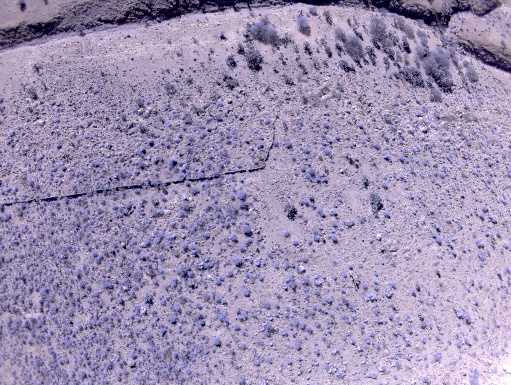agave: (165, 157, 183, 172), (309, 227, 322, 244), (210, 335, 225, 349), (327, 232, 342, 245), (319, 147, 335, 159), (241, 286, 254, 300), (167, 313, 181, 326), (235, 188, 248, 201), (115, 295, 128, 308), (240, 222, 252, 236), (149, 155, 164, 166), (232, 255, 244, 268), (383, 289, 396, 301), (289, 237, 303, 248), (280, 228, 295, 238), (169, 276, 179, 291), (283, 138, 295, 150), (168, 305, 184, 314), (141, 237, 153, 249), (432, 235, 445, 246), (323, 294, 336, 305), (309, 271, 322, 282), (178, 166, 189, 179), (316, 206, 327, 219), (78, 278, 89, 291), (344, 261, 358, 271), (232, 306, 246, 316), (200, 230, 214, 240), (296, 198, 313, 206), (228, 232, 239, 244), (381, 209, 393, 220), (304, 324, 315, 336), (127, 289, 138, 301), (194, 217, 206, 228), (307, 166, 317, 179), (300, 276, 311, 287), (145, 136, 156, 147), (214, 276, 225, 287), (253, 256, 263, 268), (196, 170, 208, 180), (298, 319, 308, 330), (254, 141, 265, 151), (228, 193, 239, 203), (380, 181, 391, 191), (371, 141, 382, 151), (321, 119, 331, 130), (231, 322, 242, 332), (272, 290, 284, 299), (193, 301, 205, 310), (312, 279, 325, 287), (304, 237, 314, 247), (339, 285, 349, 295), (179, 242, 189, 252), (95, 254, 105, 264), (171, 350, 181, 360), (183, 177, 192, 188), (220, 296, 229, 307), (237, 244, 249, 252), (340, 270, 350, 279), (197, 319, 207, 328), (84, 283, 94, 292), (293, 340, 302, 350), (319, 273, 328, 282), (139, 146, 148, 155), (214, 100, 223, 109), (214, 295, 223, 304), (128, 350, 137, 359), (55, 142, 64, 151), (169, 219, 178, 228), (93, 160, 102, 169), (480, 205, 489, 214), (361, 282, 371, 290), (398, 154, 406, 164), (198, 131, 208, 139), (388, 313, 395, 324), (271, 139, 279, 148), (334, 134, 342, 143), (150, 278, 160, 285), (186, 135, 196, 142), (320, 140, 328, 148), (373, 284, 381, 292), (299, 164, 307, 172), (223, 131, 231, 139), (83, 231, 92, 238), (372, 279, 380, 286), (328, 139, 334, 146), (332, 275, 338, 281)
